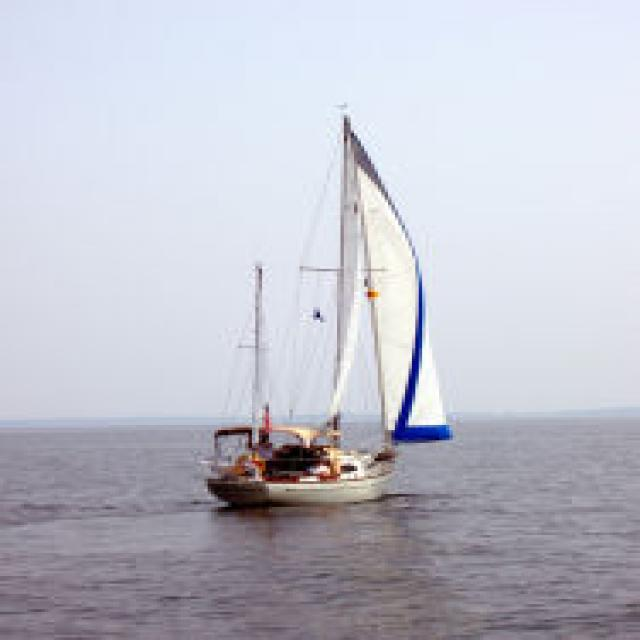Ship: (204, 112, 462, 508)
